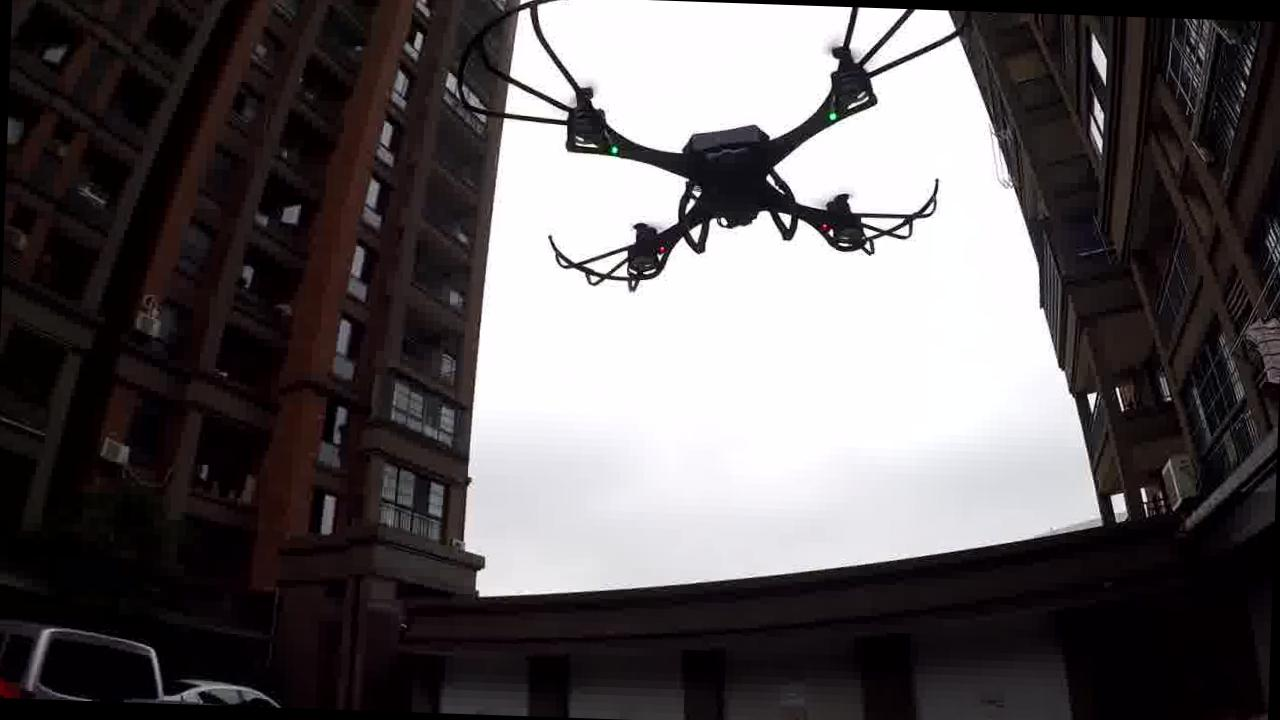drone: (430, 0, 993, 331)
